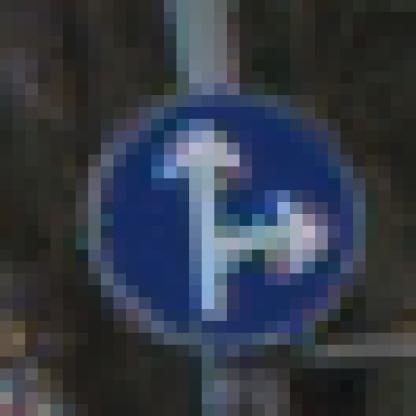Straight or Right: (77, 72, 354, 346)
